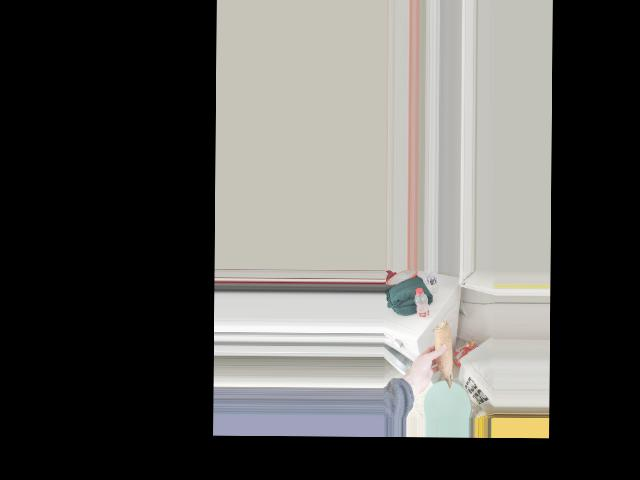sweet_potato: (431, 319, 453, 386)
